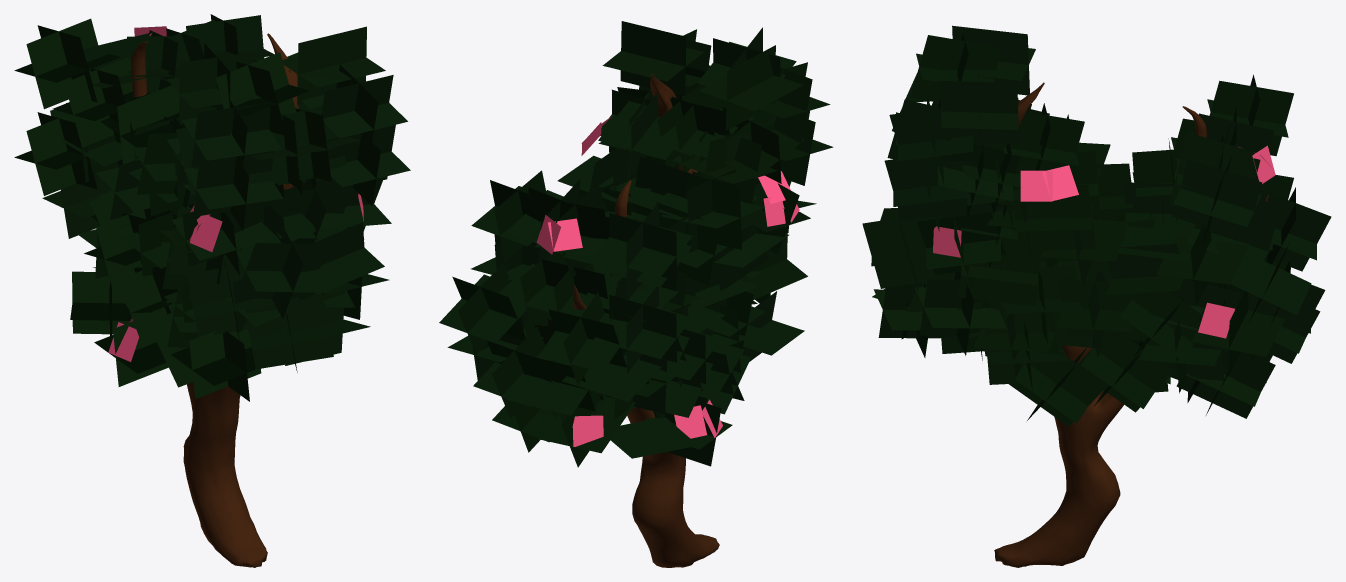
The model's file is Frangipanier_2V2_low.fbx.
The picture shows the model from 3 angles, left to right: view 1: azimuth 30°, elevation 25°; view 2: azimuth 150°, elevation 25°; view 3: azimuth 270°, elevation 25°; orthographic projection. The views are drawn at different scales.
Visible parts, largest first — view 1: Trunk_high; view 2: Trunk_high; view 3: Trunk_high.
Boxes of the visible parts, x1,y1,x2,y2 form: Trunk_high: (14,14,410,567); Trunk_high: (439,21,833,567); Trunk_high: (862,25,1331,567).
Bounding box in the file's own units: 839 × 1788 × 1480.
